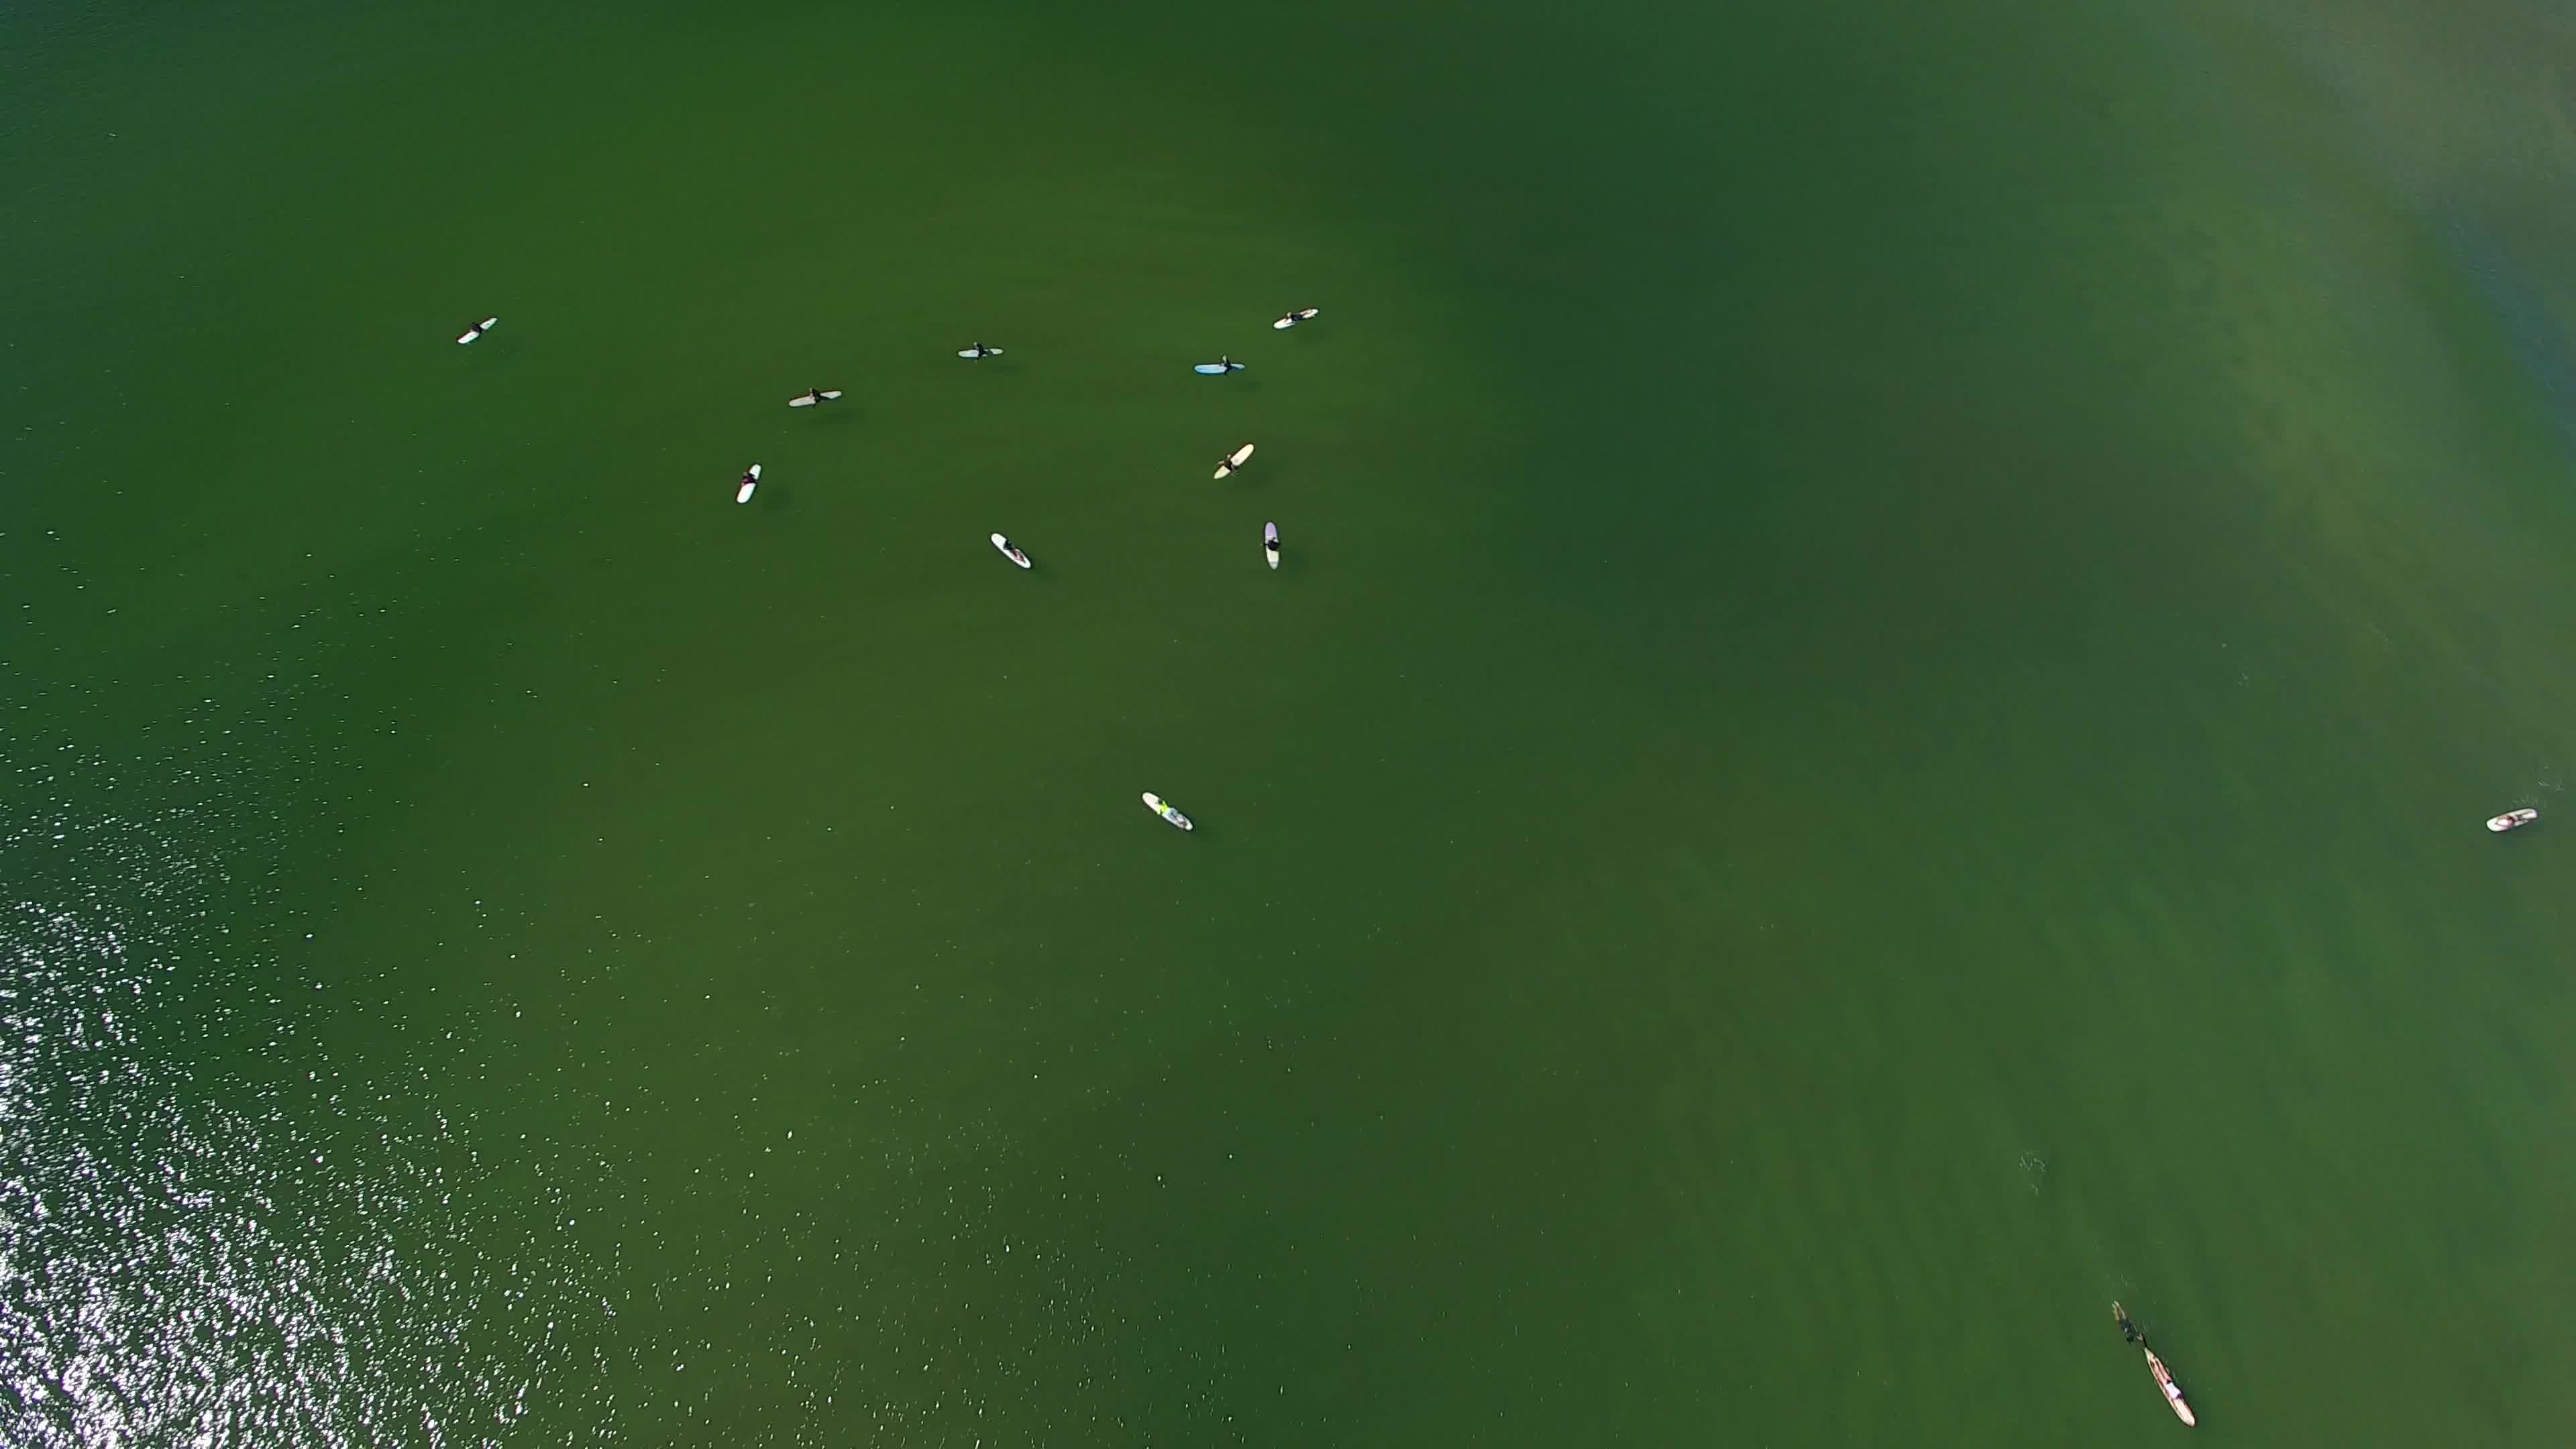surfer: (2135, 1329, 2212, 1438), (1139, 782, 1205, 837), (2479, 796, 2546, 844), (1208, 439, 1265, 492), (982, 524, 1039, 575), (1182, 350, 1258, 384), (782, 380, 851, 416), (453, 311, 508, 354), (729, 455, 770, 511), (1254, 517, 1290, 573), (1270, 303, 1325, 336), (954, 336, 1010, 364)
